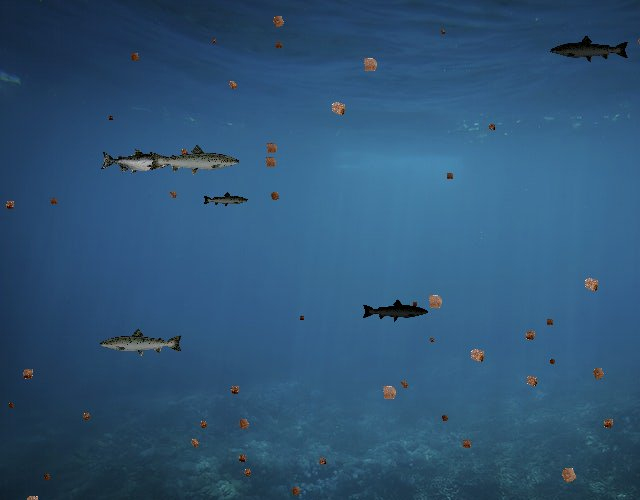Fish: (147, 143, 241, 177), (98, 327, 184, 358), (549, 34, 630, 64), (100, 149, 173, 175), (362, 298, 430, 322), (202, 192, 249, 209)
Pellet: (78, 409, 94, 425), (484, 120, 498, 134), (546, 356, 559, 369), (208, 36, 218, 46)
